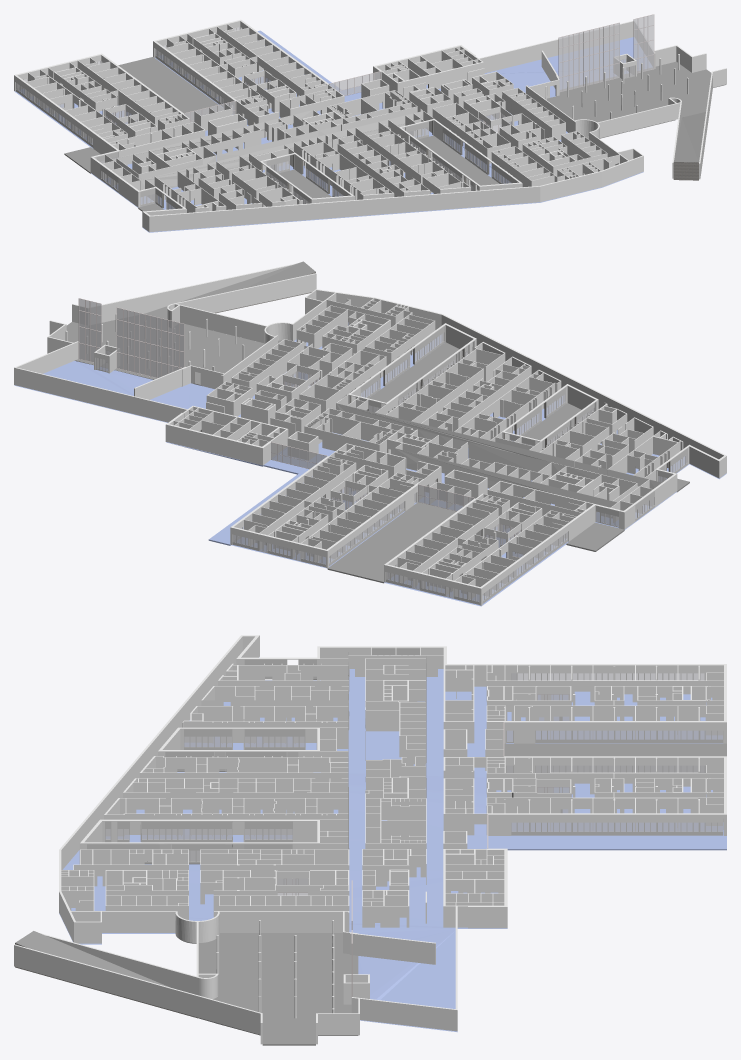
The model's file is Ebene 99.fbx.
3 views of the same model, one above another, from view 1: azimuth 30°, elevation 25°; view 2: azimuth 150°, elevation 25°; view 3: azimuth 270°, elevation 25° (orthographic). The views are drawn at different scales.
Visible parts, largest first — view 1: Farbe, weiß, Farbe, grau, Glas Normalglas, Farbe, hellblau, Fensterrahmen, Metall Aluminium, matt, Metall, Fassade Edelstahl, Beton, Sichtbeton 2, Stadtplanung Modellkörper; view 2: Farbe, weiß, Farbe, grau, Glas Normalglas, Farbe, hellblau, Fensterrahmen, Metall Aluminium, matt; view 3: Farbe, weiß, Farbe, hellblau, Farbe, grau, Glas Normalglas, Fensterrahmen, Stadtplanung Modellkörper.
Boxes of the visible parts, x1=… form: Farbe, weiß: x1=14, y1=19, x2=726, y2=232; Farbe, grau: x1=64, y1=57, x2=726, y2=211; Glas Normalglas: x1=16, y1=14, x2=653, y2=209; Farbe, hellblau: x1=14, y1=30, x2=651, y2=232; Fensterrahmen: x1=16, y1=27, x2=635, y2=209; Metall Aluminium, matt: x1=105, y1=14, x2=654, y2=133; Metall, Fassade Edelstahl: x1=73, y1=49, x2=618, y2=209; Beton, Sichtbeton 2: x1=673, y1=161, x2=699, y2=180; Stadtplanung Modellkörper: x1=545, y1=68, x2=688, y2=119; Farbe, weiß: x1=14, y1=263, x2=726, y2=605; Farbe, grau: x1=66, y1=261, x2=689, y2=583; Glas Normalglas: x1=79, y1=298, x2=687, y2=601; Farbe, hellblau: x1=14, y1=322, x2=726, y2=606; Fensterrahmen: x1=96, y1=326, x2=687, y2=604; Metall Aluminium, matt: x1=78, y1=298, x2=521, y2=545; Farbe, weiß: x1=14, y1=635, x2=726, y2=1044; Farbe, hellblau: x1=59, y1=657, x2=726, y2=1032; Farbe, grau: x1=15, y1=673, x2=726, y2=1045; Glas Normalglas: x1=105, y1=655, x2=722, y2=895; Fensterrahmen: x1=87, y1=648, x2=723, y2=895; Stadtplanung Modellkörper: x1=216, y1=920, x2=333, y2=1018.
Bounding box in the file's own units: 18915 × 14699 × 1738.
Materials: 12 (3 with a texture image).
